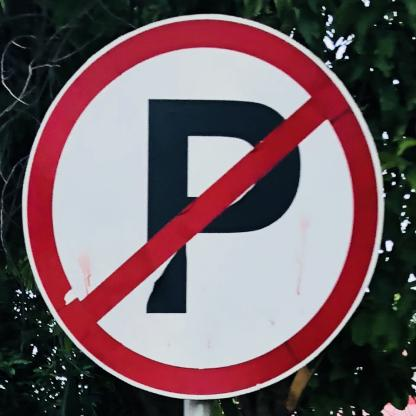No Parking: (25, 18, 386, 393)
